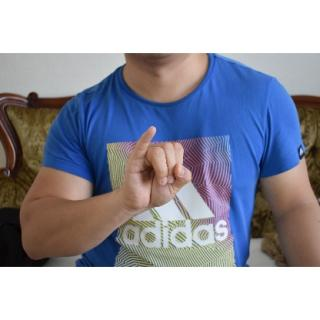MEEM: (117, 124, 194, 214)
